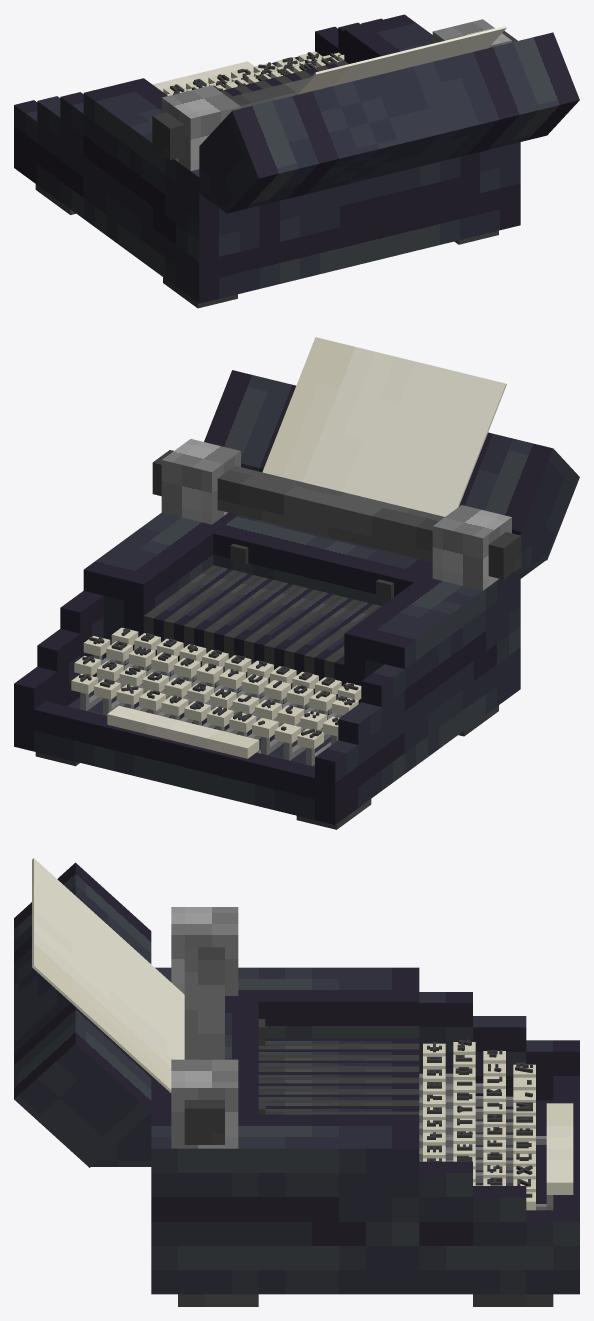
File: typewriter.gltf
The picture shows the model from 3 angles, top to bottom: view 1: azimuth 30°, elevation 25°; view 2: azimuth 150°, elevation 25°; view 3: azimuth 270°, elevation 25°; orthographic projection. The views are drawn at different scales.
Parts seen in each view (by area): view 1: cube (×18); view 2: cube (×37); view 3: cube (×37).
Part boxes in pixels (x1=…): cube (×18): x1=14, y1=14, x2=579, y2=308; cube (×37): x1=14, y1=337, x2=579, y2=824; cube (×37): x1=14, y1=858, x2=579, y2=1306.
Bounding box in the file's own units: 0.9844 × 0.7186 × 1.19.
Materials: 4 (4 with a texture image).
